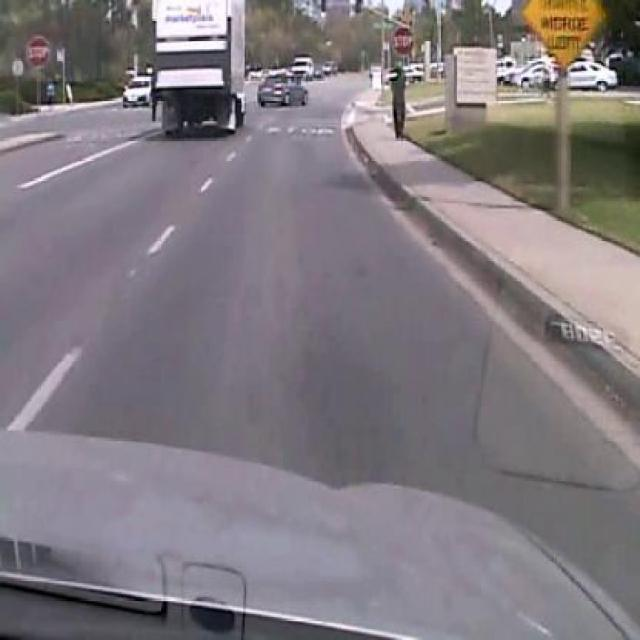traffic_sign: (390, 27, 418, 58)
